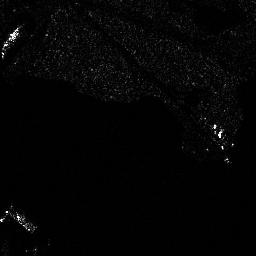ship: (1, 24, 22, 56)
